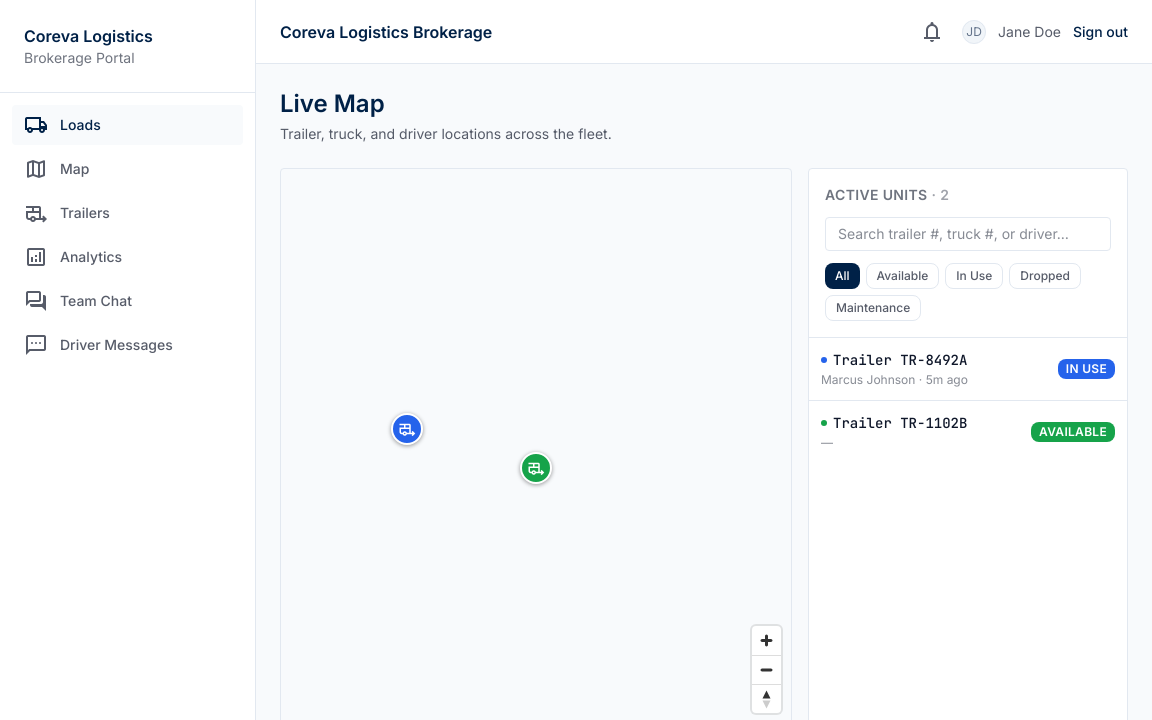
it: MapView › filters the list by driver name
Expected: the text "Trailer TR-8492A" is shown, [821,350,968,370]
Type "marcus" into the search field with placeholder "Search trailer #, truck #, or driver…" at [968, 234], box [825,217,1111,251]
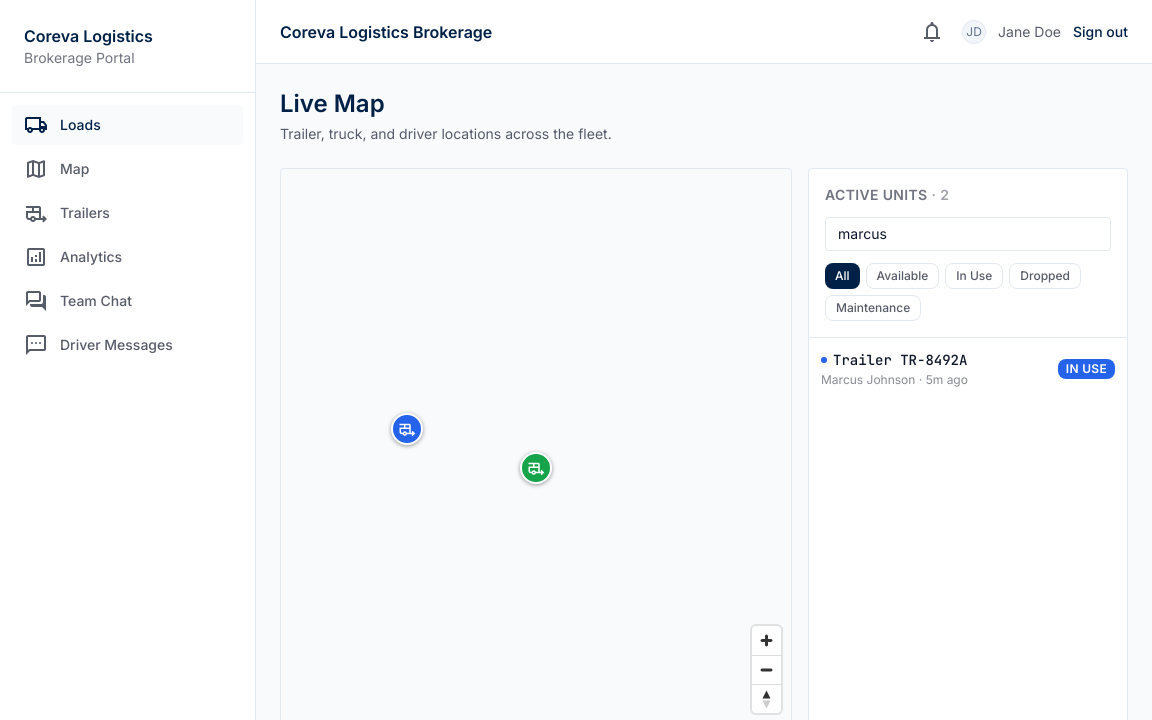
Expected: the text "Trailer TR-8492A" is shown, [821,350,968,370]
Result: the button "Trailer TR-1102B" is gone
